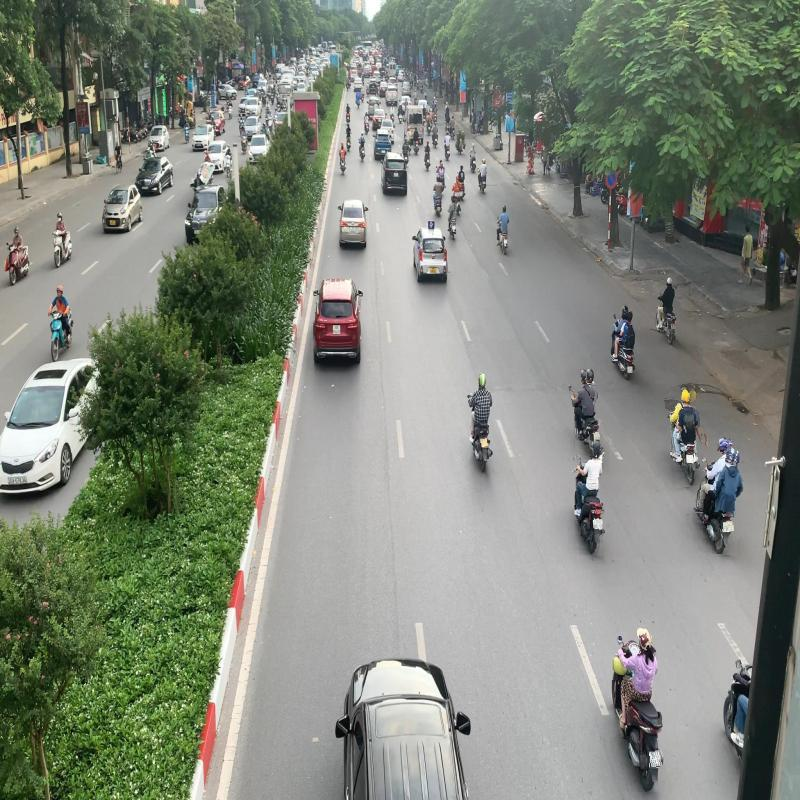helmet: (638, 626, 652, 649), (716, 436, 728, 453), (686, 389, 698, 405), (726, 446, 736, 465), (587, 442, 597, 458), (586, 370, 594, 384), (478, 374, 486, 386)
licenseplate: (648, 750, 662, 768), (594, 517, 604, 530), (726, 520, 734, 532), (480, 438, 489, 448), (686, 454, 694, 464)
motorcyclist: (610, 625, 666, 792), (692, 435, 746, 555), (569, 441, 608, 556), (666, 384, 705, 488), (570, 368, 602, 458), (466, 372, 494, 472)
